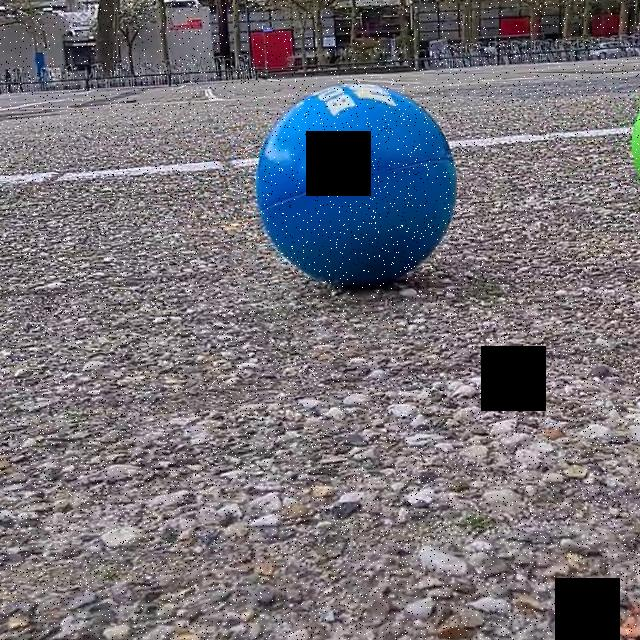ball: (254, 79, 464, 293)
